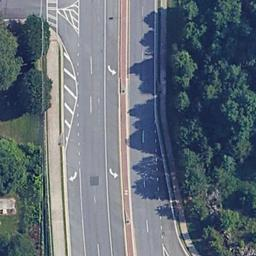Chevron: (60, 42, 77, 147), (58, 1, 80, 38)
Crosswalk: (49, 1, 59, 37)
Left Turn Arrow: (108, 166, 119, 180), (107, 62, 118, 76)
Right Turn Arrow: (67, 169, 77, 182)
Solid White Line: (103, 1, 113, 256), (79, 165, 86, 256)
Stopline: (39, 1, 44, 20)
White Dashed Line: (153, 125, 166, 242), (141, 126, 152, 233), (76, 39, 83, 165), (87, 53, 96, 114)
